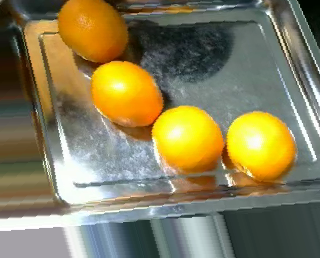Orange: (226, 109, 297, 181), (152, 105, 224, 175), (91, 59, 164, 126), (56, 1, 127, 62)
